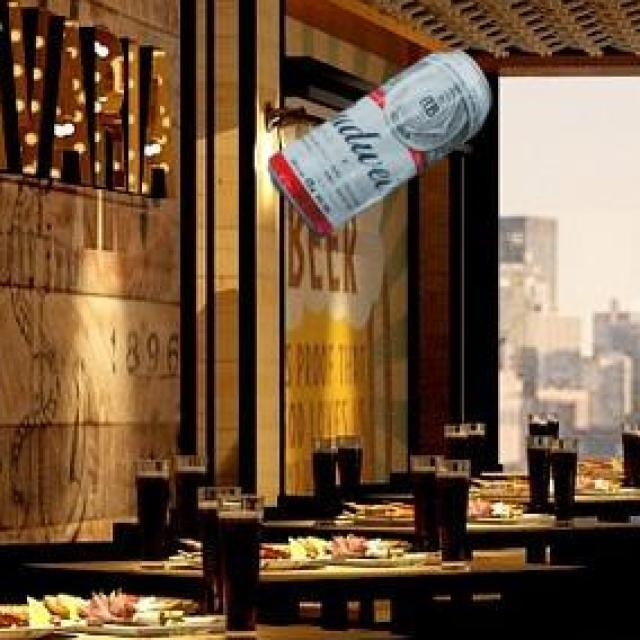logam: (265, 46, 488, 233)
